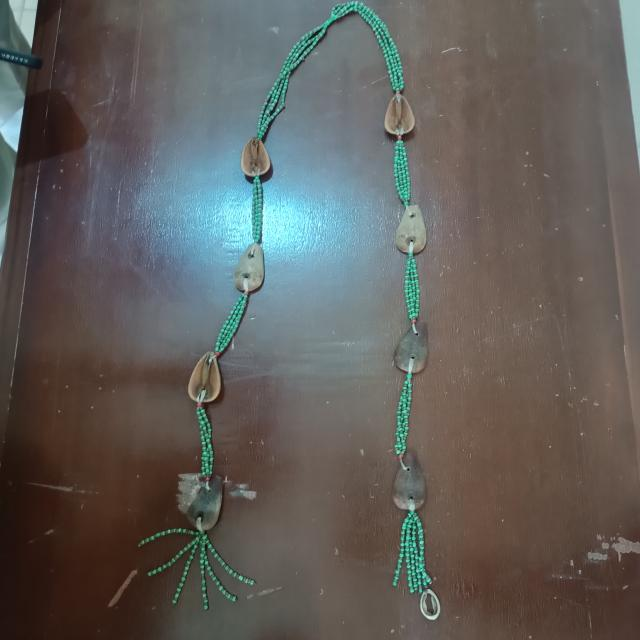facedown: (391, 445, 430, 513), (393, 316, 433, 380), (187, 473, 226, 533), (392, 200, 431, 259), (231, 237, 268, 295)
faceup: (184, 348, 223, 406), (238, 134, 274, 185), (382, 92, 419, 138)
